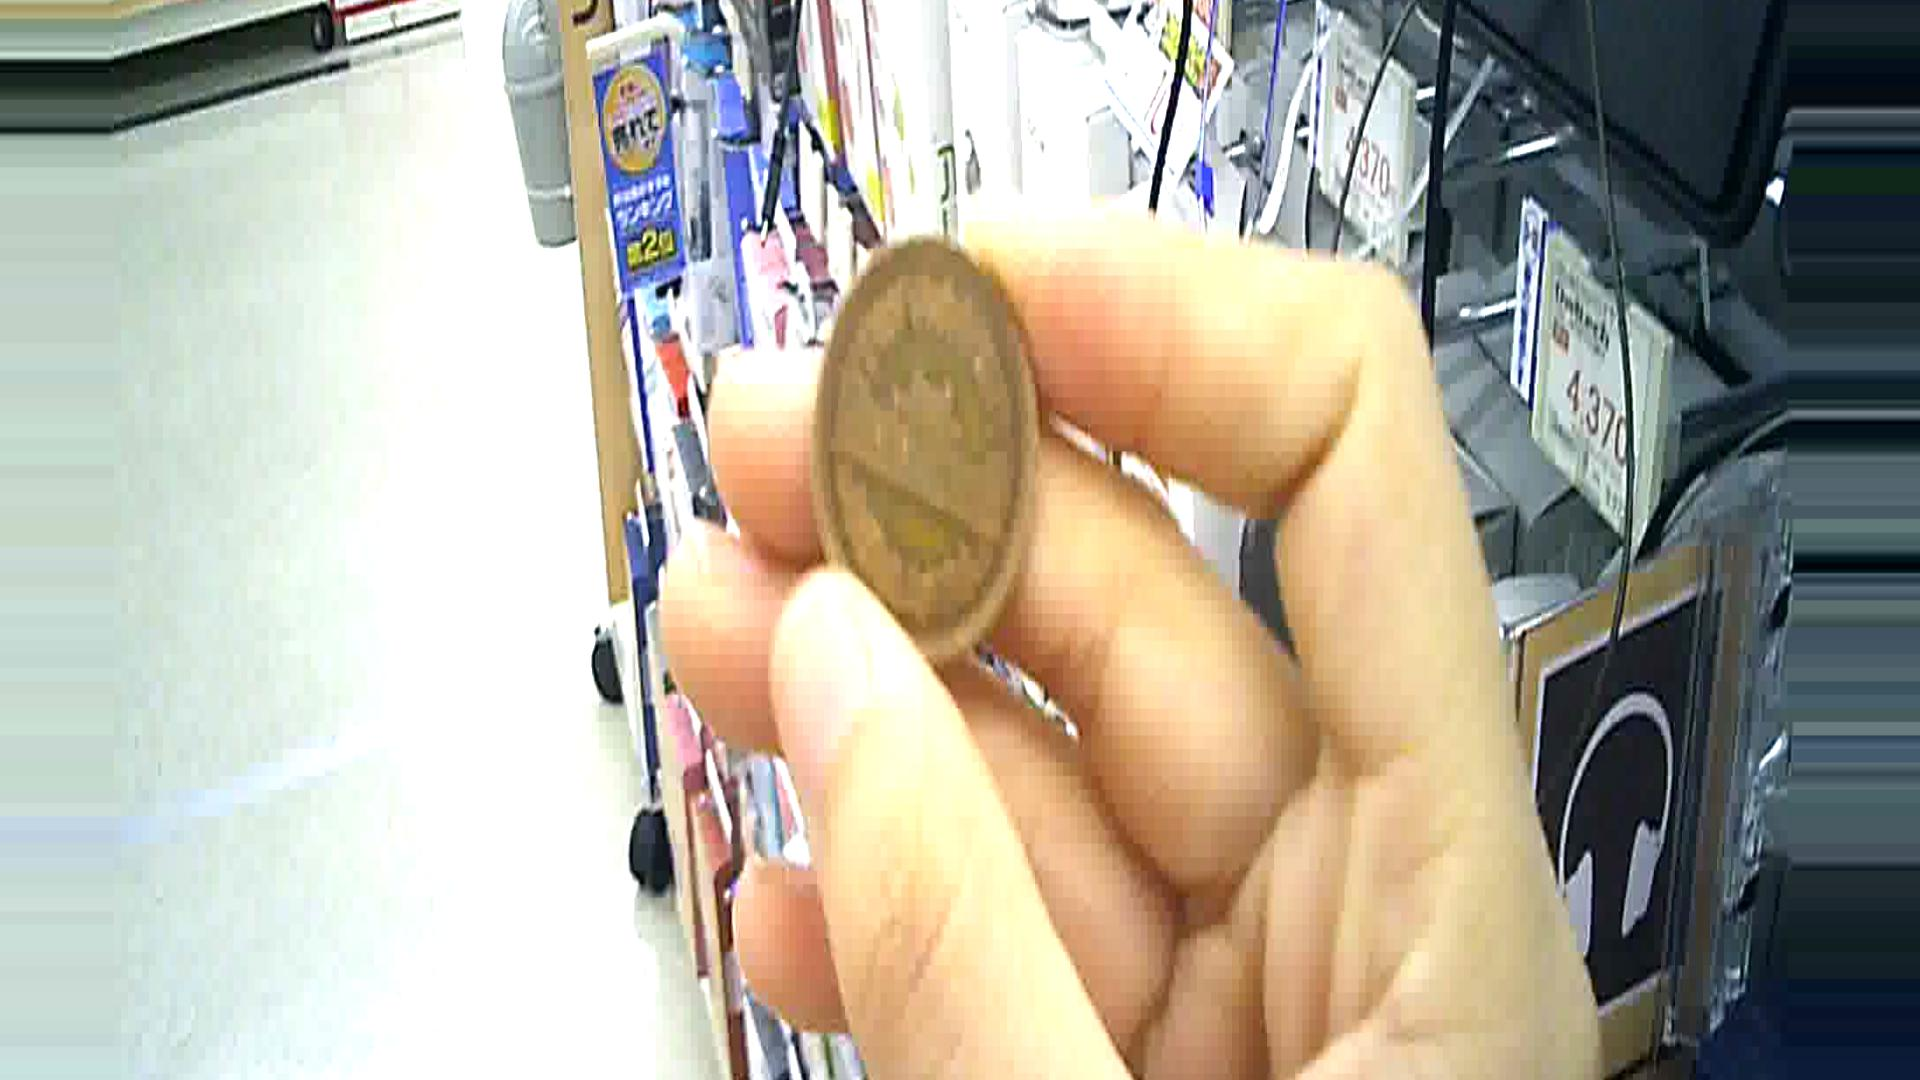10 Yen: (814, 231, 1036, 646)
